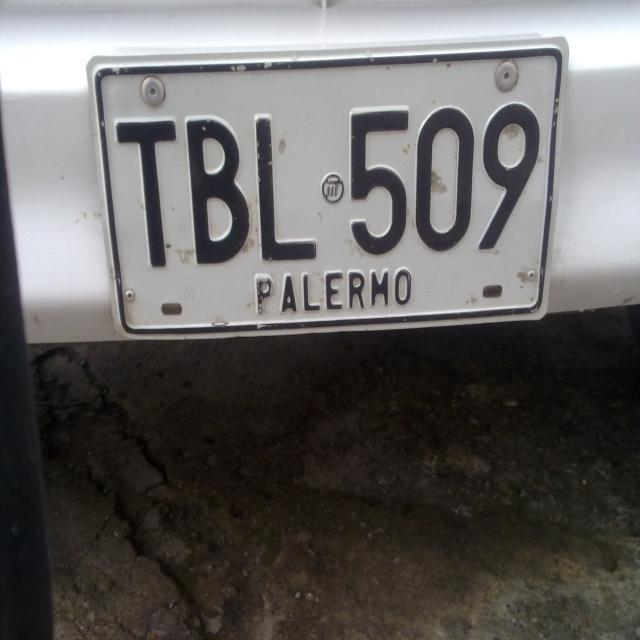placa: (82, 36, 571, 342)
